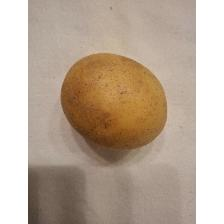Kartoffel: (57, 51, 170, 151)
